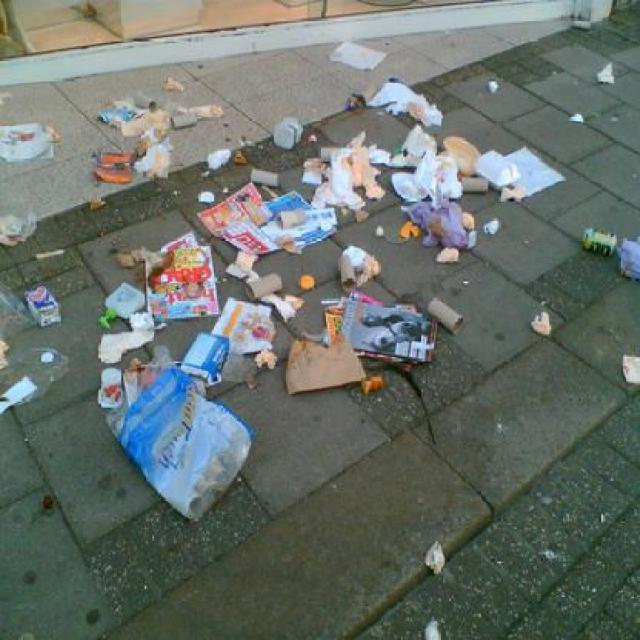garbage: (66, 329, 270, 529), (328, 114, 546, 240), (280, 269, 450, 410), (128, 193, 265, 326), (203, 159, 349, 266), (95, 77, 210, 186), (0, 275, 66, 410), (374, 66, 443, 150), (0, 105, 60, 170), (574, 216, 640, 275), (0, 205, 42, 250)
